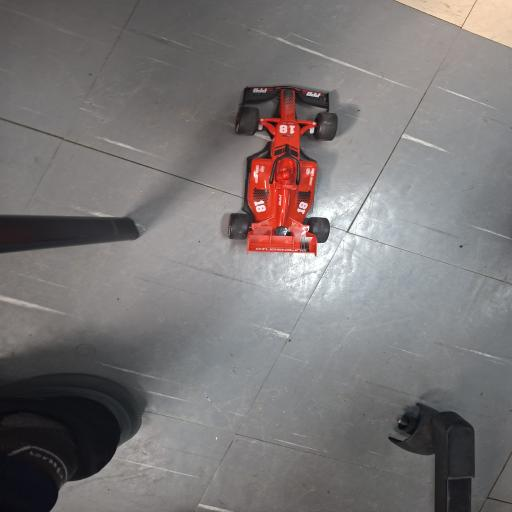carro: (222, 83, 337, 255)
